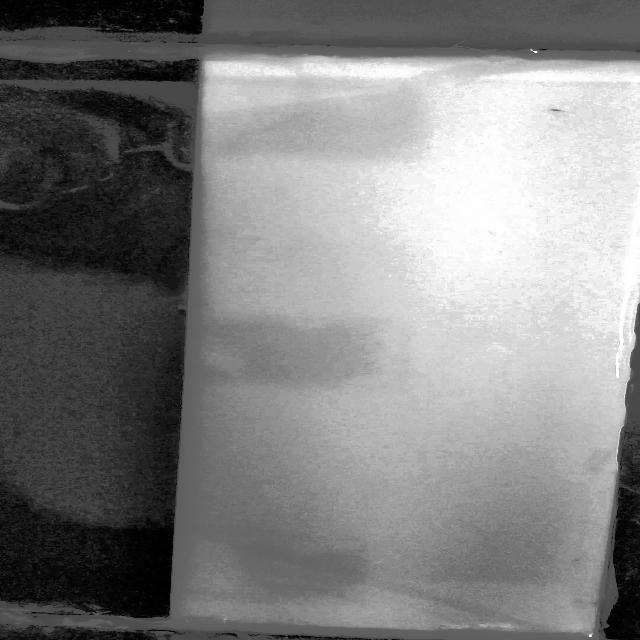shrimp: (542, 105, 565, 116)
